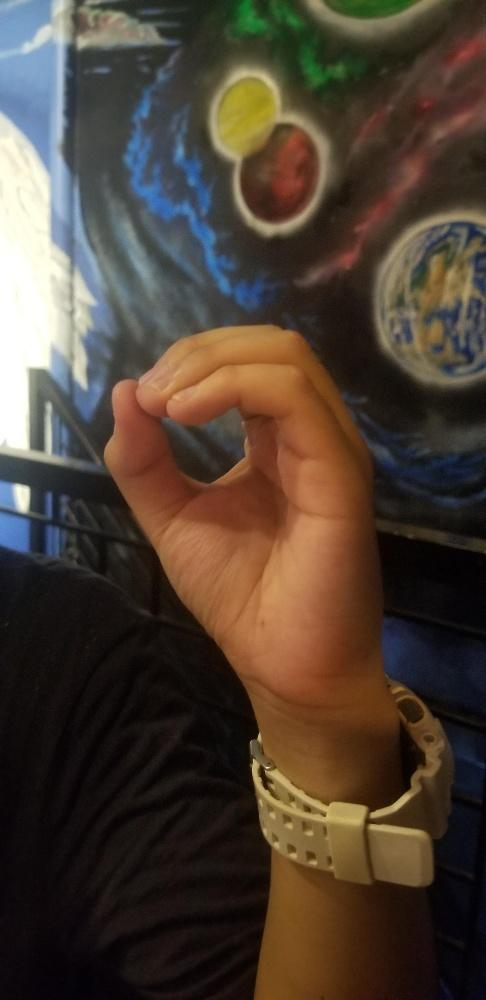o: (99, 321, 383, 673)
